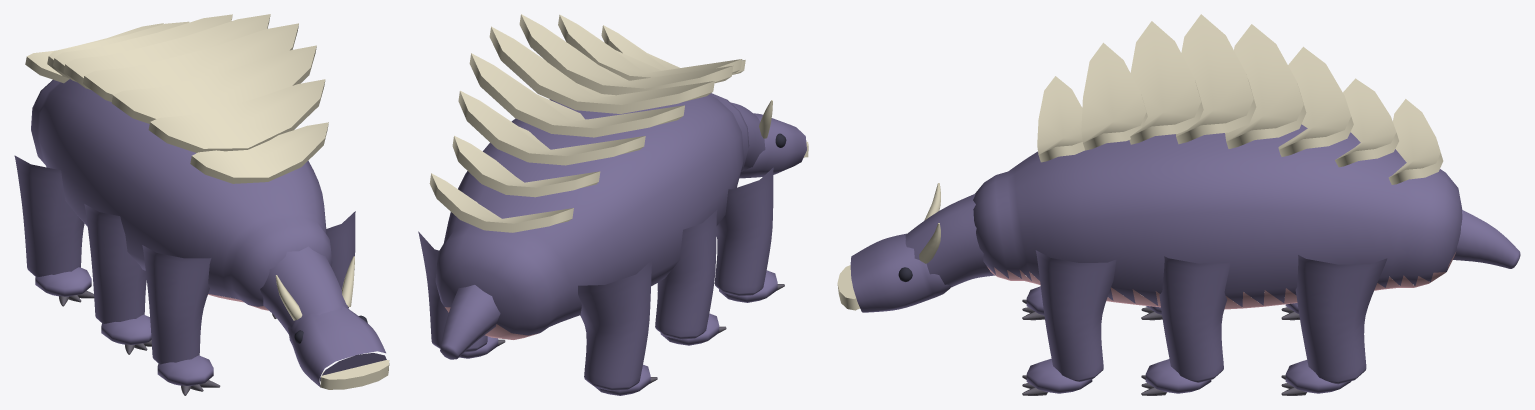
The model's file is xeno-species-and-alien-creatures-plated-grazer-5276706c__21119.glb.
The picture shows the model from 3 angles, left to right: view 1: azimuth 30°, elevation 25°; view 2: azimuth 150°, elevation 25°; view 3: azimuth 270°, elevation 25°; orthographic projection. The views are drawn at different scales.
Parts seen in each view (by area): view 1: plated-grazer; view 2: plated-grazer; view 3: plated-grazer.
Boxes of the visible parts, x1,y1,x2,y2 form: plated-grazer: [14, 14, 389, 395]; plated-grazer: [418, 14, 808, 395]; plated-grazer: [837, 14, 1520, 395].
Size of the model in its own units: 1.88 by 2.24 by 4.88.
